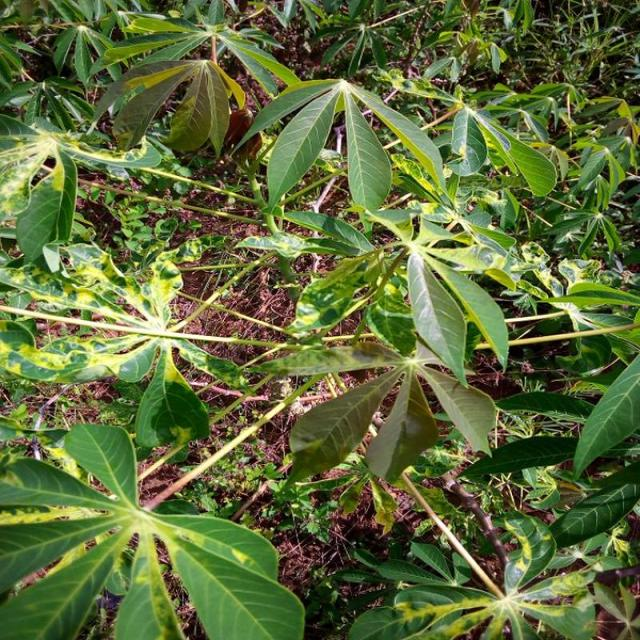cassava leaf: (406, 251, 468, 388)
